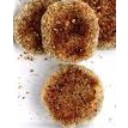cutlet: (42, 2, 100, 62), (48, 65, 103, 125), (15, 1, 52, 57)
